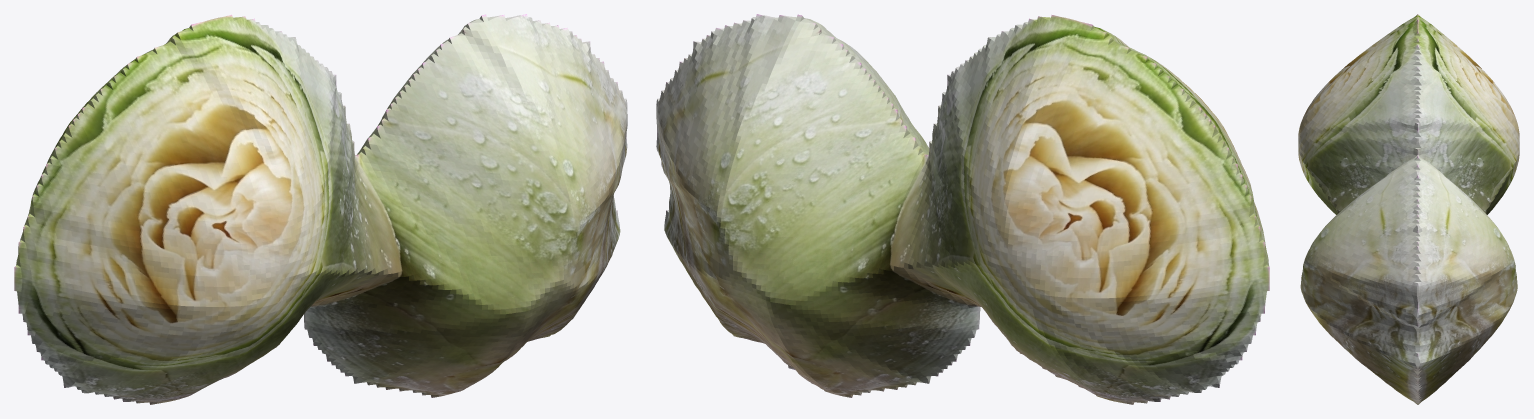
File: artichoke.glb
3 renders of one model, left to right at view 1: azimuth 30°, elevation 25°; view 2: azimuth 150°, elevation 25°; view 3: azimuth 270°, elevation 25°, orthographic. The views are drawn at different scales.
Visible parts, largest first — view 1: Artichoke; view 2: Artichoke; view 3: Artichoke.
Boxes of the visible parts, box(x1,y1,x2,y2) form: Artichoke: box(14, 14, 627, 404); Artichoke: box(656, 14, 1269, 404); Artichoke: box(1298, 14, 1519, 404).
Size of the model in its own units: 1.58 by 1.07 by 0.7371.
Materials: 1 (1 with a texture image).
